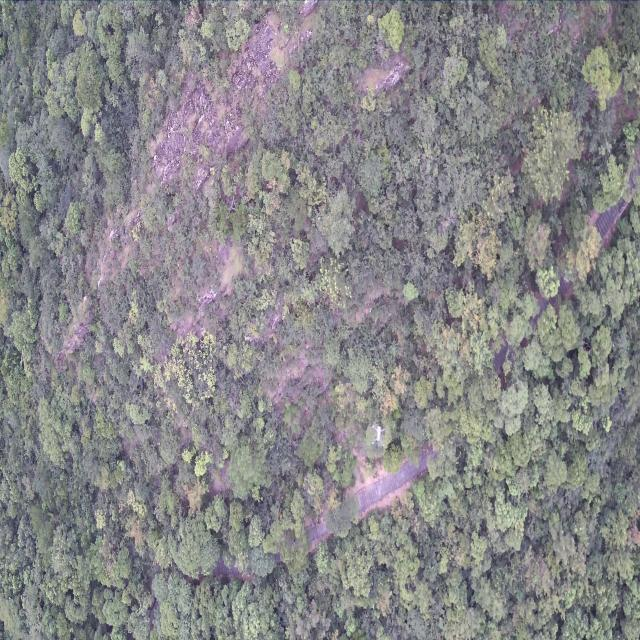drone: (371, 424, 385, 446)
